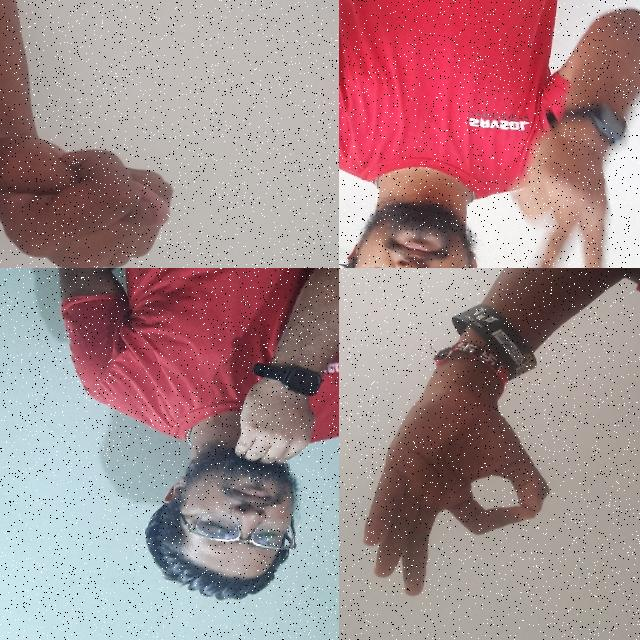Chin Flick: (144, 353, 334, 609)
Dulya: (0, 109, 184, 268)
Okay: (350, 326, 574, 616)
Reversed Victory: (476, 99, 637, 268)
